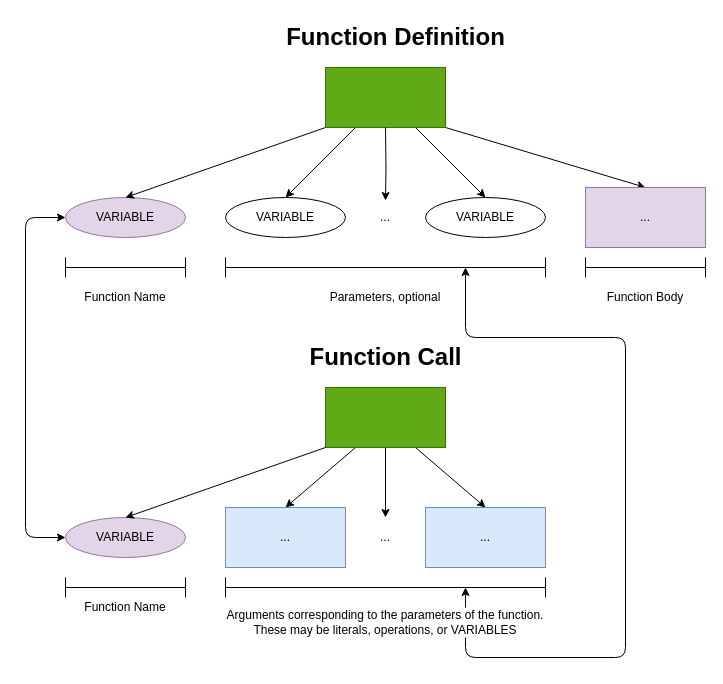
Some shapes in this 723 by 684 pixel diagram are drawn without their labels. Each missing label, with the centre of its shape:
"FUNCCALL" belongs at [385,417].
"FUNCDEF" belongs at [385,97].
